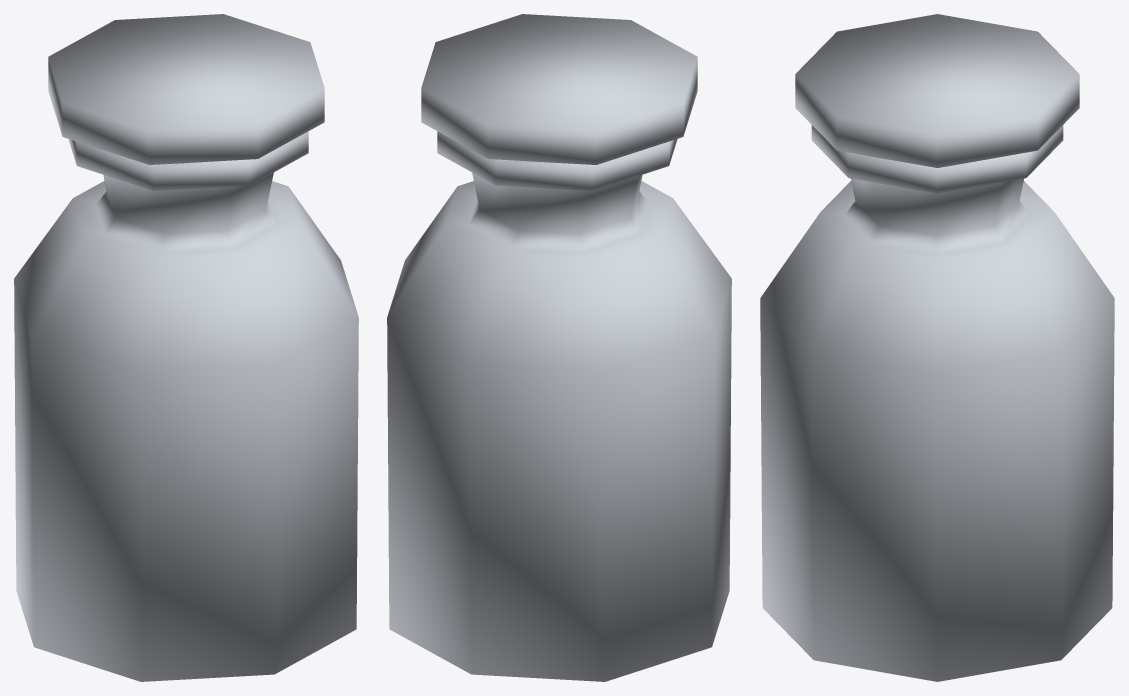
The model's file is bottle_glassware_reagent_bottle_medium.glb.
3 renders of one model, left to right at view 1: azimuth 30°, elevation 25°; view 2: azimuth 150°, elevation 25°; view 3: azimuth 270°, elevation 25°, orthographic.
Parts seen in each view (by area): view 1: bottle_glassware_reagent_bottle_medium, bottle_glassware_reagant_bottle_cap.; view 2: bottle_glassware_reagent_bottle_medium, bottle_glassware_reagant_bottle_cap.; view 3: bottle_glassware_reagent_bottle_medium, bottle_glassware_reagant_bottle_cap..
Part boxes in pixels (<box>): bottle_glassware_reagent_bottle_medium: <box>14,131,358,681</box>; bottle_glassware_reagant_bottle_cap.: <box>48,14,324,164</box>; bottle_glassware_reagent_bottle_medium: <box>387,131,731,681</box>; bottle_glassware_reagant_bottle_cap.: <box>421,14,697,164</box>; bottle_glassware_reagent_bottle_medium: <box>760,125,1114,681</box>; bottle_glassware_reagant_bottle_cap.: <box>795,14,1079,167</box>.
Size of the model in its own units: 9.52 by 15.82 by 9.52.
1 material, 1 textured.
